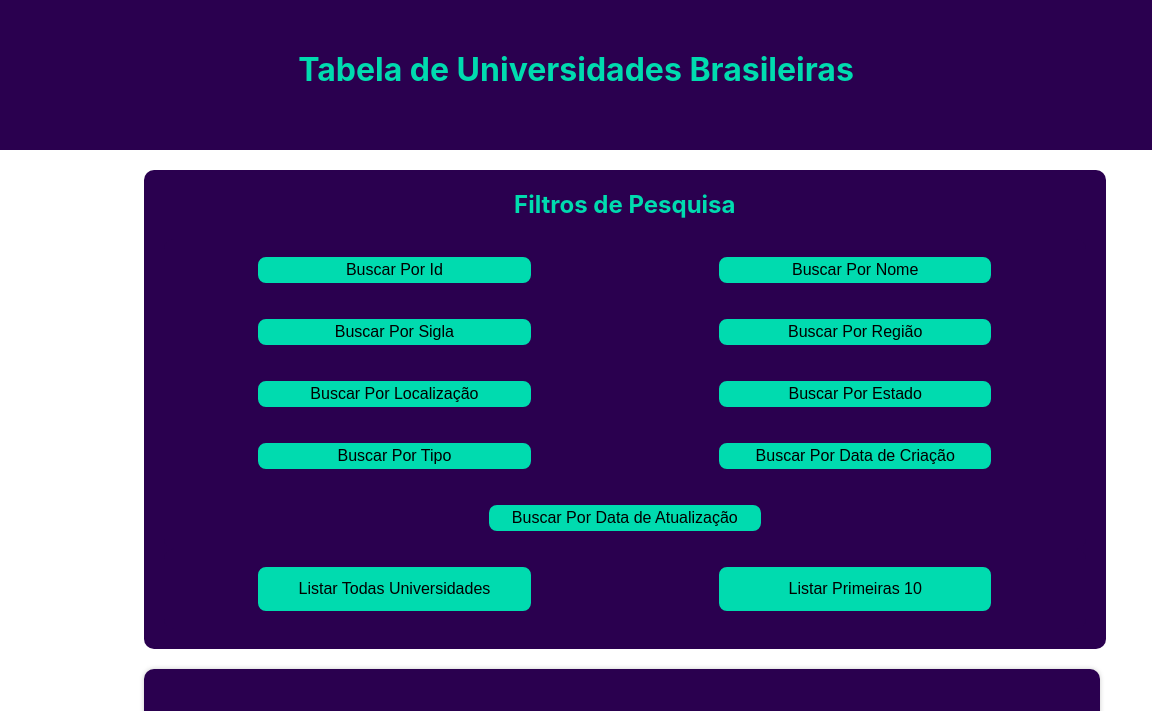
Testa SearchArea › testa se somente ao clicar em um botão aparece o input
The width and height of the screenshot is (1152, 711).
Click the button with test id "buttonTest": (394, 270) [256,255,533,285]
(page scrolled)
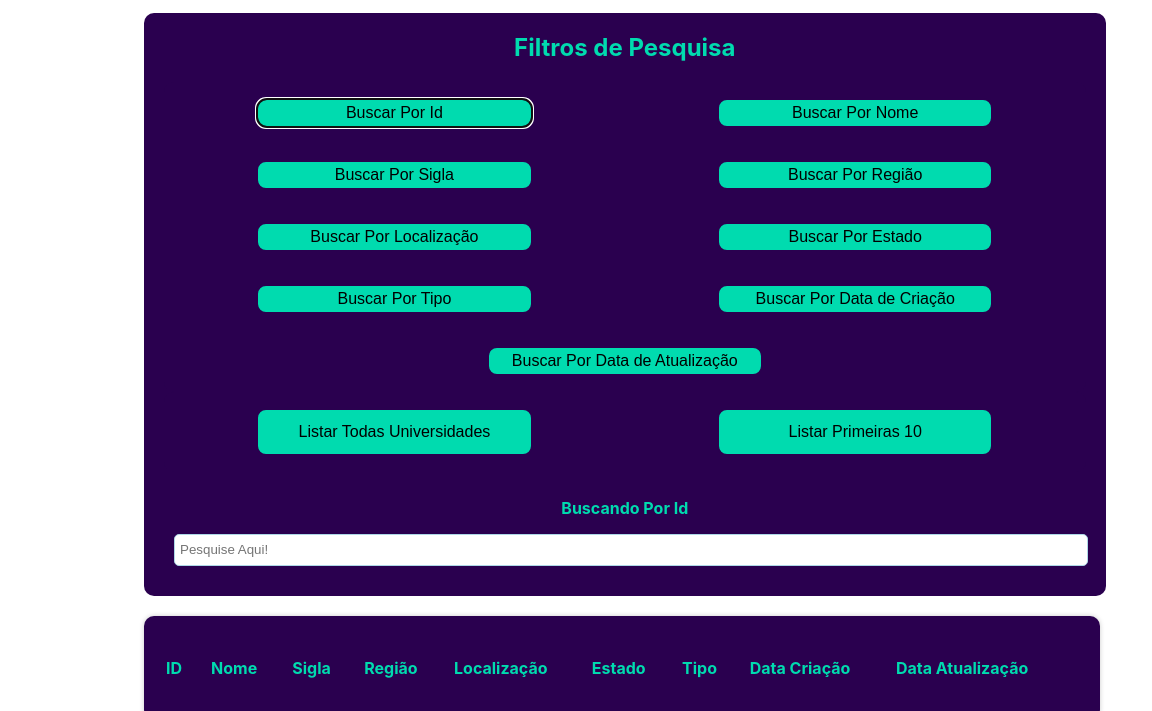
Now the field with test id "input" is shown, box [174,534,1088,566]
